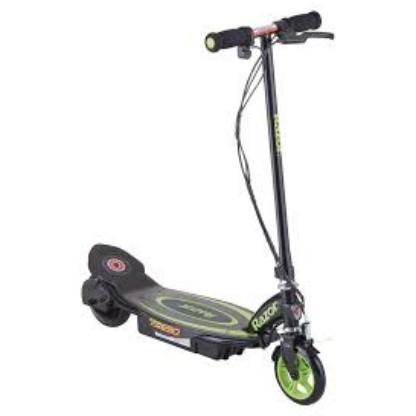bike: (81, 8, 333, 408), (82, 243, 327, 407)
